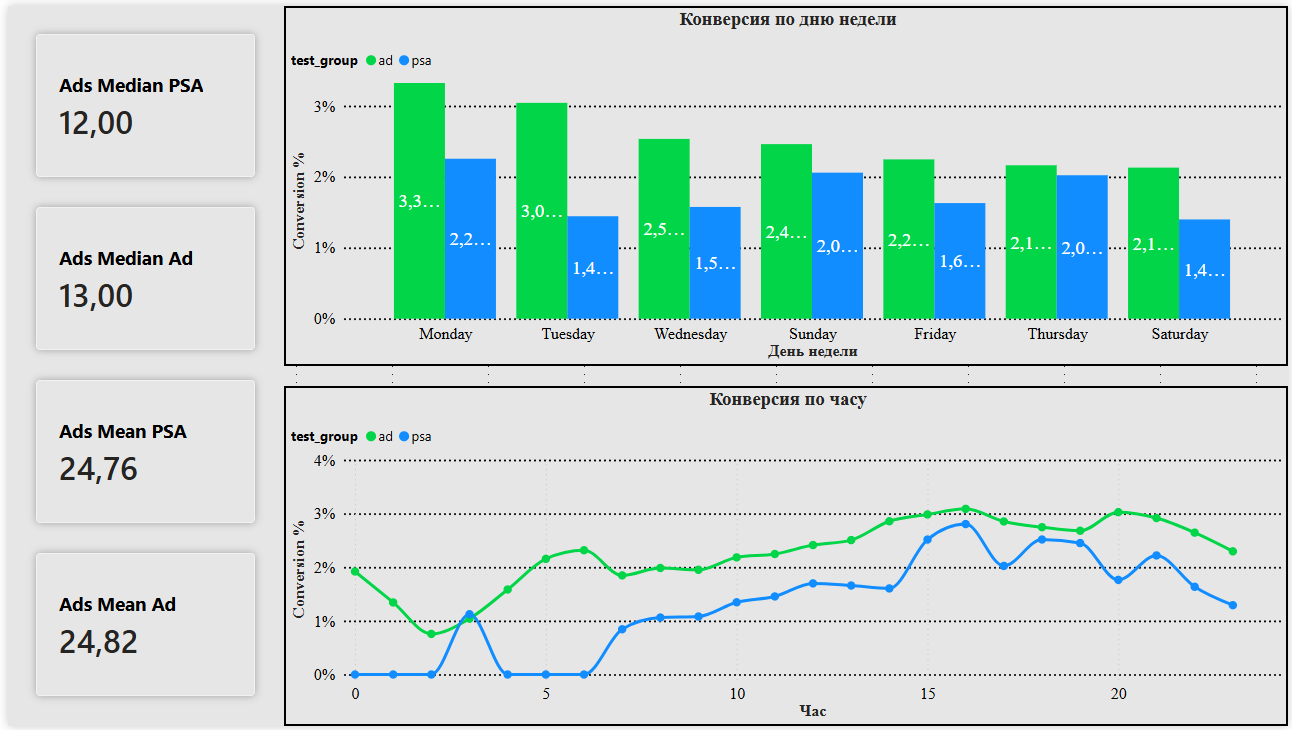

Layout of this report page (visuals, bound fields, positions):
{"tool":"powerbi","page":{"name":"Guardrail","canvas":[1280,720],"ordinal":1},"visuals":[{"type":"cardVisual","fields":{"Data":["clean_users.Ads Median PSA","clean_users.Ads Median Ad","clean_users.Ads Mean PSA","clean_users.Ads Mean Ad"]},"box":[0,0,275,720.4],"z":0},{"type":"clusteredColumnChart","title":"Конверсия по дню недели","fields":{"Category":["clean_users.most_ads_day"],"Y":["clean_users.Conversion %"],"Series":["clean_users.test_group"]},"box":[275.6,0,1004.4,360],"z":1},{"type":"lineChart","title":"Конверсия по часу","fields":{"Y":["clean_users.Conversion %"],"Category":["clean_users.most_ads_hour"],"Series":["clean_users.test_group"]},"box":[275.6,380,1004.4,340],"z":2}]}

Visuals, with their boxes in screenshot pixels (x1, y1, x2, y2), scaled from the page's 1280x720 canvas onto the 1292x730 screenshot:
cardVisual - clean_users.Ads Median PSA x clean_users.Ads Median Ad: BBox(0, 0, 278, 729)
"Конверсия по дню недели" clusteredColumnChart: BBox(278, 0, 1291, 365)
"Конверсия по часу" lineChart: BBox(278, 385, 1291, 729)
